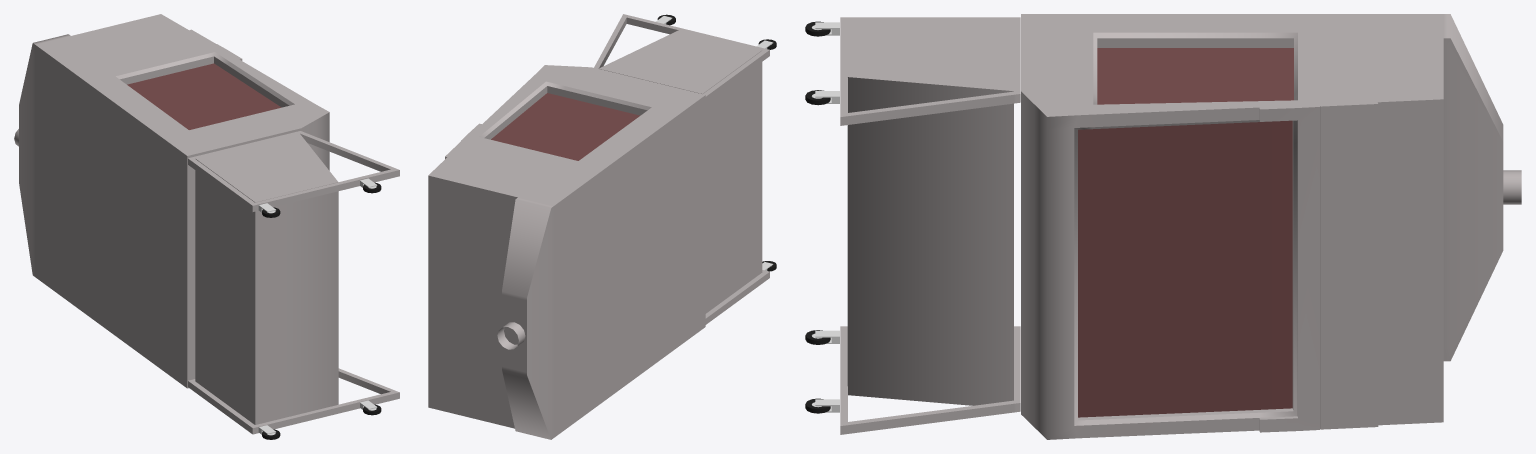
3 renders of one model, left to right at view 1: azimuth 30°, elevation 25°; view 2: azimuth 150°, elevation 25°; view 3: azimuth 270°, elevation 25°, orthographic. The views are drawn at different scales.
Parts seen in each view (by area): view 1: Cube.002; view 2: Cube.002; view 3: Cube.002.
Part boxes in pixels (<box>): Cube.002: <box>14,14,399,439</box>; Cube.002: <box>428,14,776,439</box>; Cube.002: <box>805,14,1521,439</box>.
Bounding box in the file's own units: 82 × 120 × 241.
